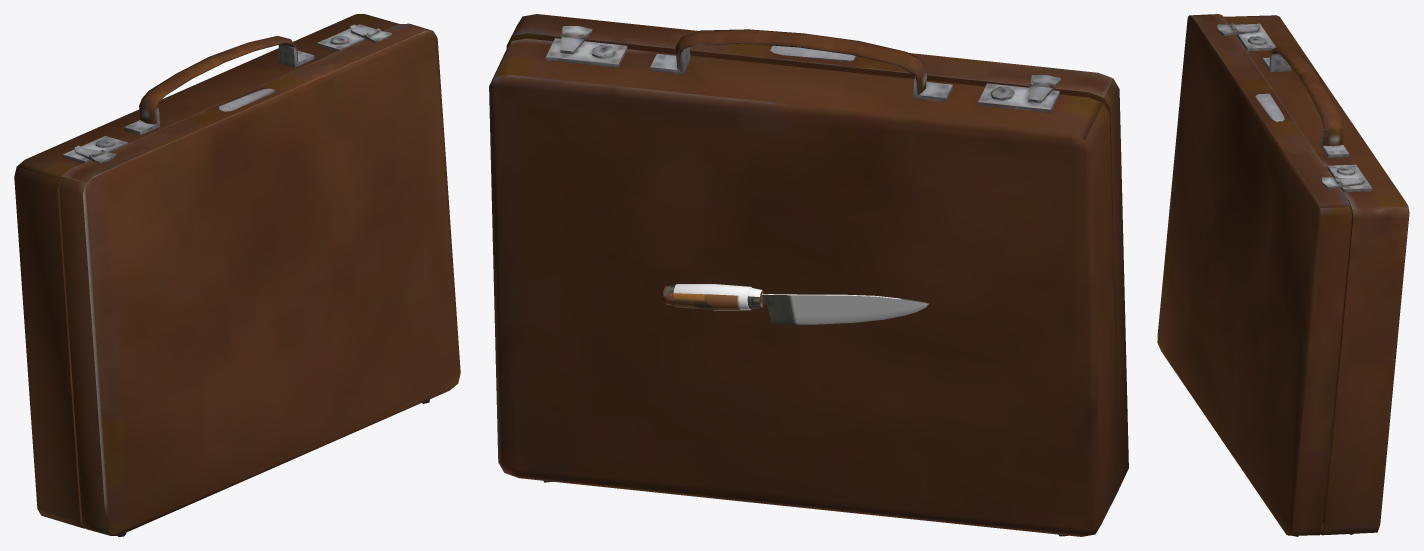
The model's file is suitcase E.fbx.
3 views of the same model, side by side, from view 1: azimuth 30°, elevation 25°; view 2: azimuth 150°, elevation 25°; view 3: azimuth 270°, elevation 25° (orthographic). The views are drawn at different scales.
Parts seen in each view (by area): view 1: SuitcaseEBottom_1, SuitcaseEBottom; view 2: SuitcaseEBottom, SuitcaseEBottom_1, Knife; view 3: SuitcaseEBottom_1, SuitcaseEBottom.
Part boxes in pixels (<box>): SuitcaseEBottom_1: <box>59,23,460,536</box>; SuitcaseEBottom: <box>14,14,399,528</box>; SuitcaseEBottom: <box>489,29,1118,536</box>; SuitcaseEBottom_1: <box>506,14,1128,488</box>; Knife: <box>662,284,928,324</box>; SuitcaseEBottom_1: <box>1157,14,1365,536</box>; SuitcaseEBottom: <box>1224,15,1409,535</box>.
Size of the model in its own units: 91.73 by 76 by 46.37.
